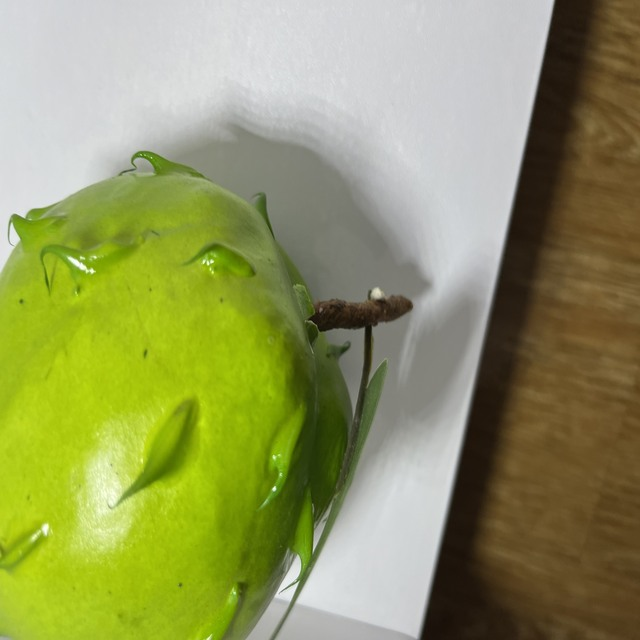Man cau: (0, 140, 378, 640)
